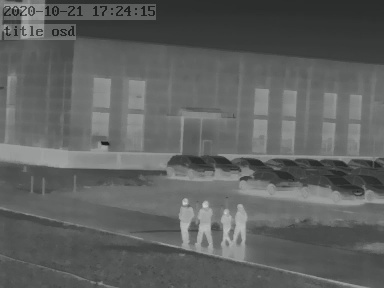person: (195, 198, 213, 249), (177, 196, 193, 245), (234, 205, 248, 247), (218, 207, 232, 248)
vehicle: (298, 171, 363, 199), (166, 152, 213, 179), (239, 170, 301, 190), (204, 153, 241, 178), (355, 174, 383, 202), (235, 155, 270, 171), (348, 155, 379, 169), (262, 156, 295, 169), (320, 156, 348, 169), (296, 156, 324, 168)
